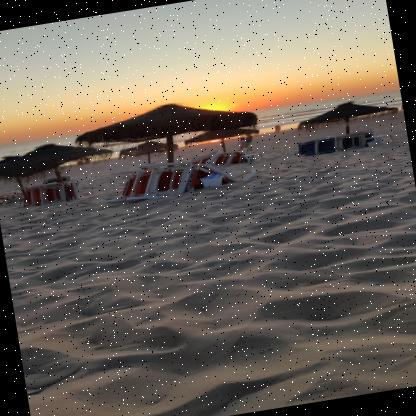Cigarette: (27, 388, 43, 394)
Clear plastic bottle: (204, 171, 214, 179), (210, 173, 219, 178)
